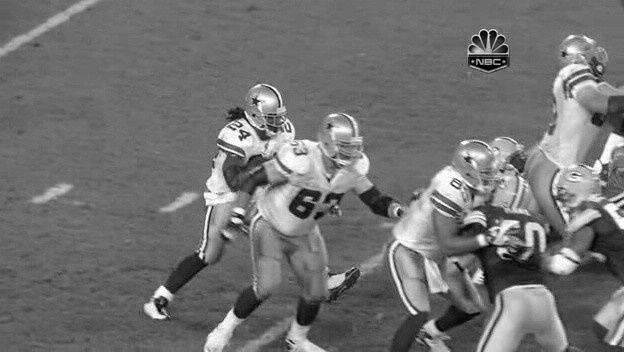person: (252, 85, 287, 129), (251, 85, 286, 129), (253, 85, 288, 129), (252, 84, 287, 128), (252, 86, 287, 130)
target_negative: (191, 158, 427, 284), (93, 93, 338, 213), (300, 126, 476, 284), (422, 59, 547, 264), (358, 320, 621, 333), (290, 305, 588, 313)
